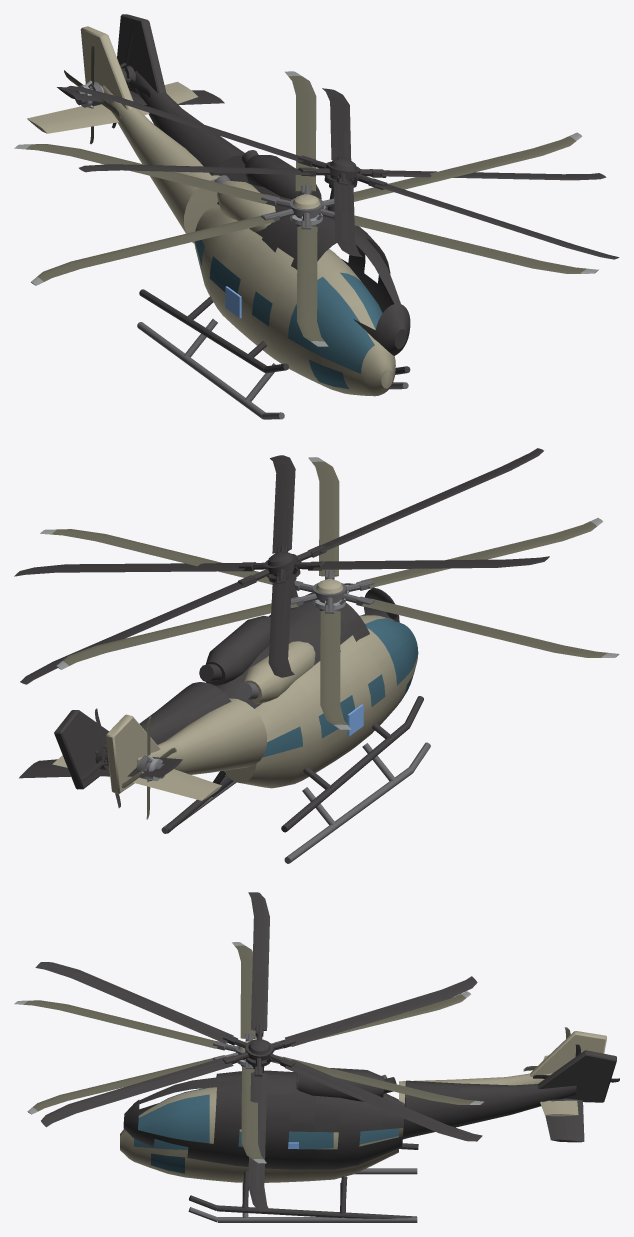
The model's file is helicopter__mh_6m_little_bird.glb.
The picture shows the model from 3 angles, top to bottom: view 1: azimuth 30°, elevation 25°; view 2: azimuth 150°, elevation 25°; view 3: azimuth 270°, elevation 25°; orthographic projection. The views are drawn at different scales.
Parts seen in each view (by area): view 1: Fuselage_Mesh, Wreck, Rotor_Main_Mesh, Landing_Gear_Mesh, Engines_Mesh, Rotor_Tail_Mesh; view 2: Wreck, Fuselage_Mesh, Rotor_Main_Mesh, Engines_Mesh, Landing_Gear_Mesh, Rotor_Tail_Mesh; view 3: Wreck, Fuselage_Mesh, Rotor_Main_Mesh, Landing_Gear_Mesh.
Part boxes in pixels (bbox=[...]): Fuselage_Mesh: bbox=[27, 26, 395, 396]; Wreck: bbox=[57, 14, 619, 374]; Rotor_Main_Mesh: bbox=[14, 71, 598, 346]; Landing_Gear_Mesh: bbox=[137, 319, 408, 419]; Engines_Mesh: bbox=[214, 175, 275, 231]; Rotor_Tail_Mesh: bbox=[64, 44, 120, 144]; Wreck: bbox=[14, 448, 549, 833]; Fuselage_Mesh: bbox=[52, 615, 418, 800]; Rotor_Main_Mesh: bbox=[40, 457, 619, 730]; Engines_Mesh: bbox=[237, 641, 315, 704]; Landing_Gear_Mesh: bbox=[161, 742, 430, 863]; Rotor_Tail_Mesh: bbox=[121, 716, 176, 819]; Wreck: bbox=[35, 892, 619, 1218]; Fuselage_Mesh: bbox=[120, 1031, 606, 1182]; Rotor_Main_Mesh: bbox=[14, 942, 484, 1163]; Landing_Gear_Mesh: bbox=[188, 1168, 417, 1222].
Size of what is drawn, in the model's own units: 8.74 by 3.87 by 9.71.
